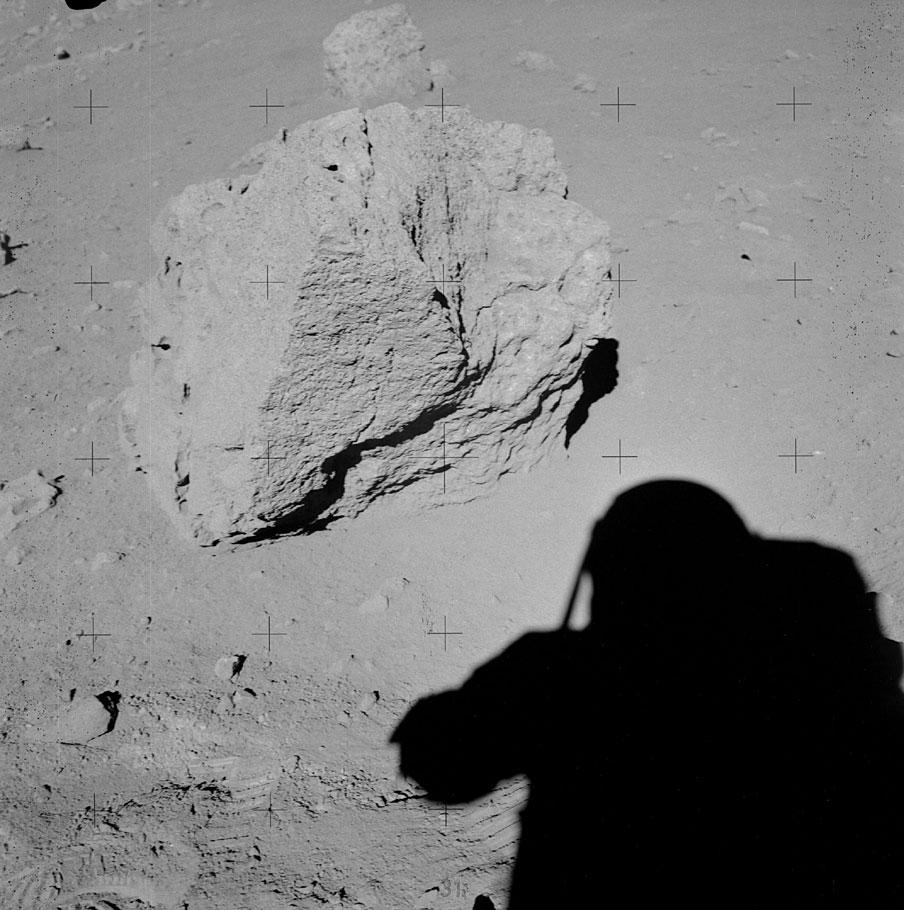rock: (123, 103, 615, 544)
